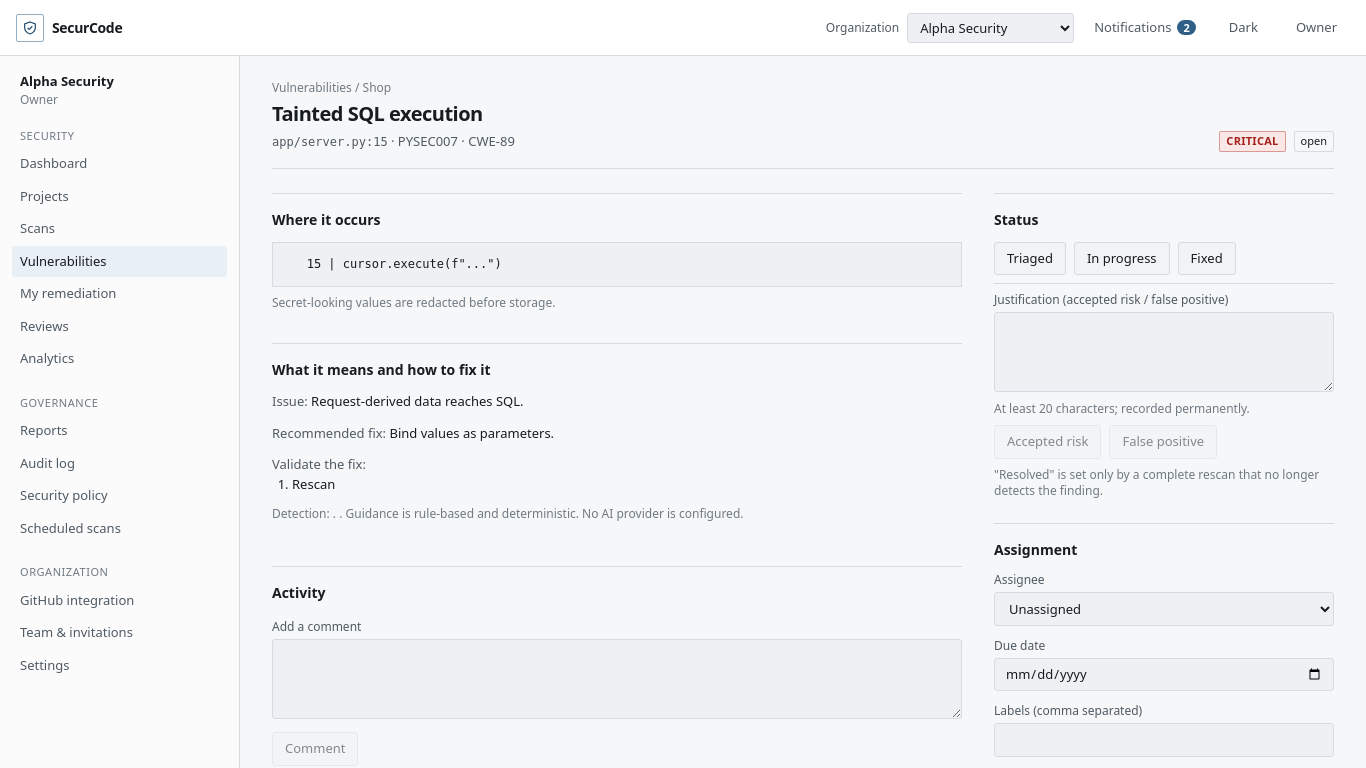
Test: application › finding detail offers only the transitions the API allows and requires justification for reviewed statuses
Later steps or results of the test are not shown.
Expected: the heading "Tainted SQL execution" is shown, [272, 100, 515, 128]
Expected: the button "Accepted risk" is disabled, [994, 425, 1101, 458]
In the text box labelled "Justification (accepted risk / false positive)": (1164, 352) [994, 312, 1334, 392], type "Compensating control in place until Q3 release."
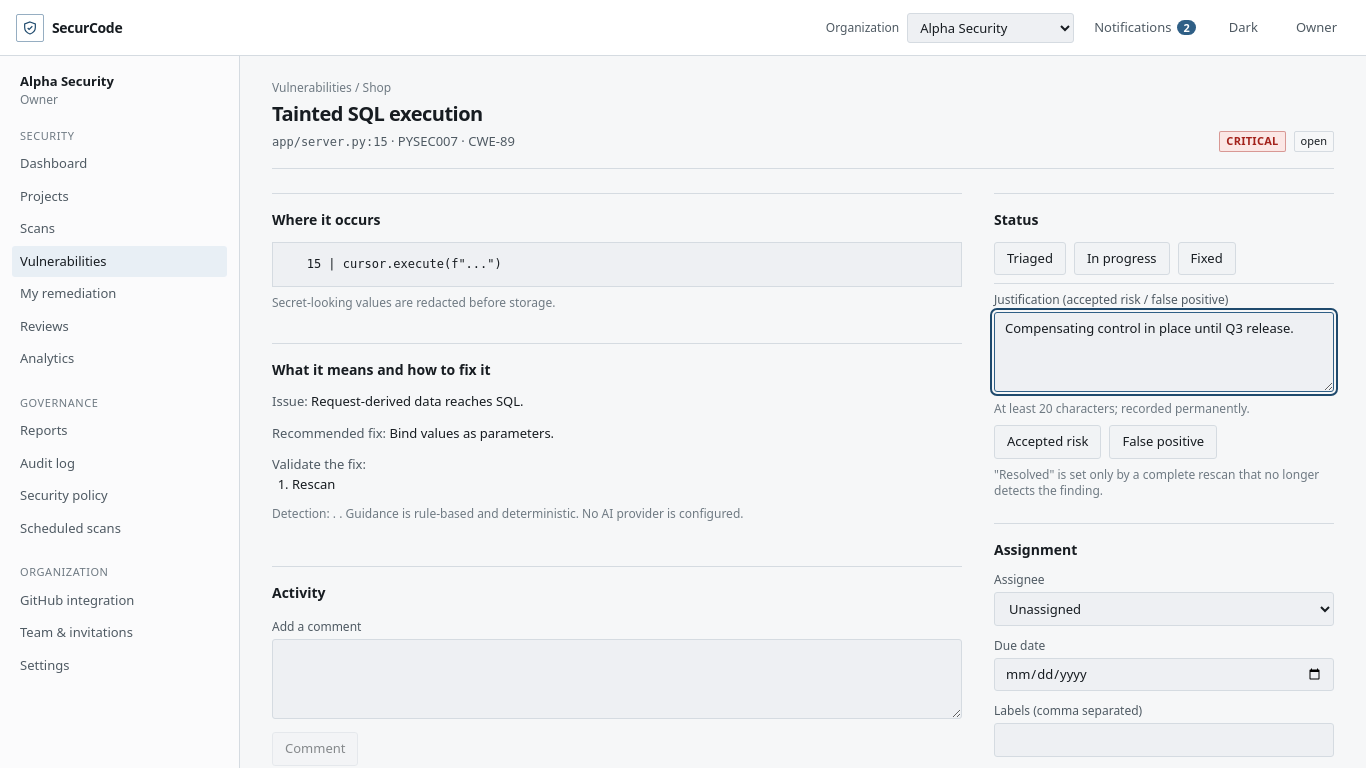
Result: the button "Accepted risk" is enabled at [994, 425, 1101, 458]
